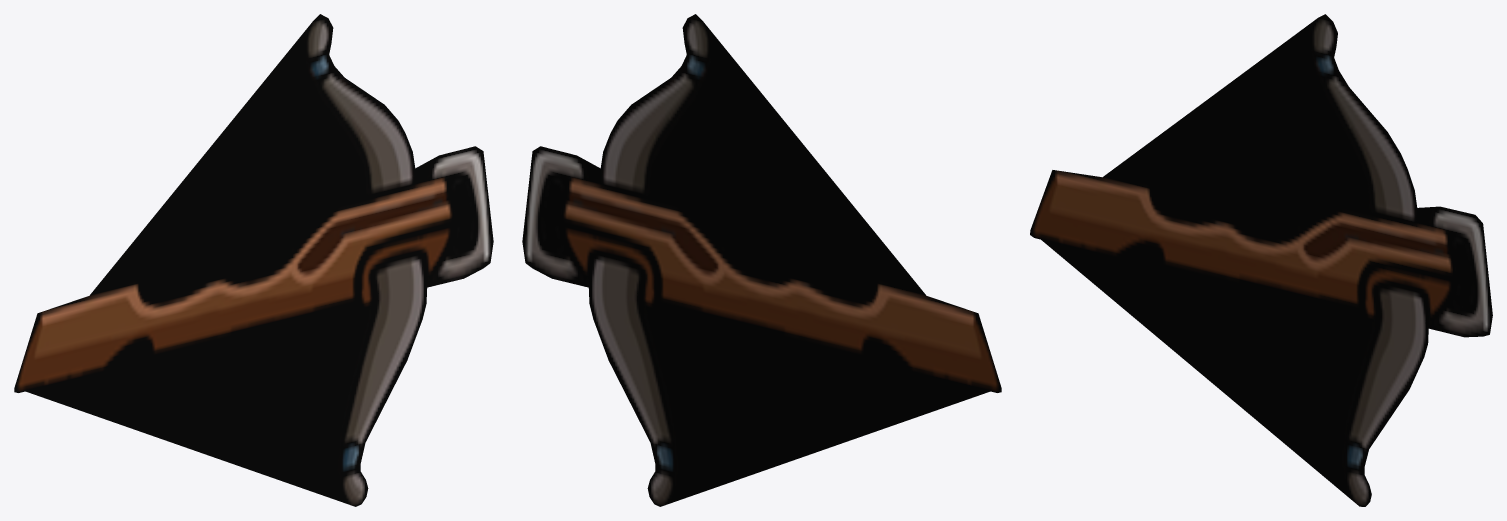
File: crossbow_0001.fbx
3 renders of one model, left to right at view 1: azimuth 30°, elevation 25°; view 2: azimuth 150°, elevation 25°; view 3: azimuth 330°, elevation 25°, orthographic. The views are drawn at different scales.
Parts seen in each view (by area): view 1: crossbow_001_geo; view 2: crossbow_001_geo; view 3: crossbow_001_geo.
Part boxes in pixels (bbox=[...]): crossbow_001_geo: bbox=[14, 14, 493, 506]; crossbow_001_geo: bbox=[522, 14, 1001, 506]; crossbow_001_geo: bbox=[1030, 14, 1492, 506].
Bounding box in the file's own units: 19.45 × 19.45 × 0.
Materials: 1 (1 with a texture image).
